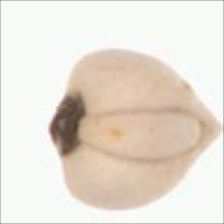L5: (78, 107, 207, 162), (44, 88, 90, 160), (197, 97, 224, 158)
L6: (45, 47, 224, 216)
